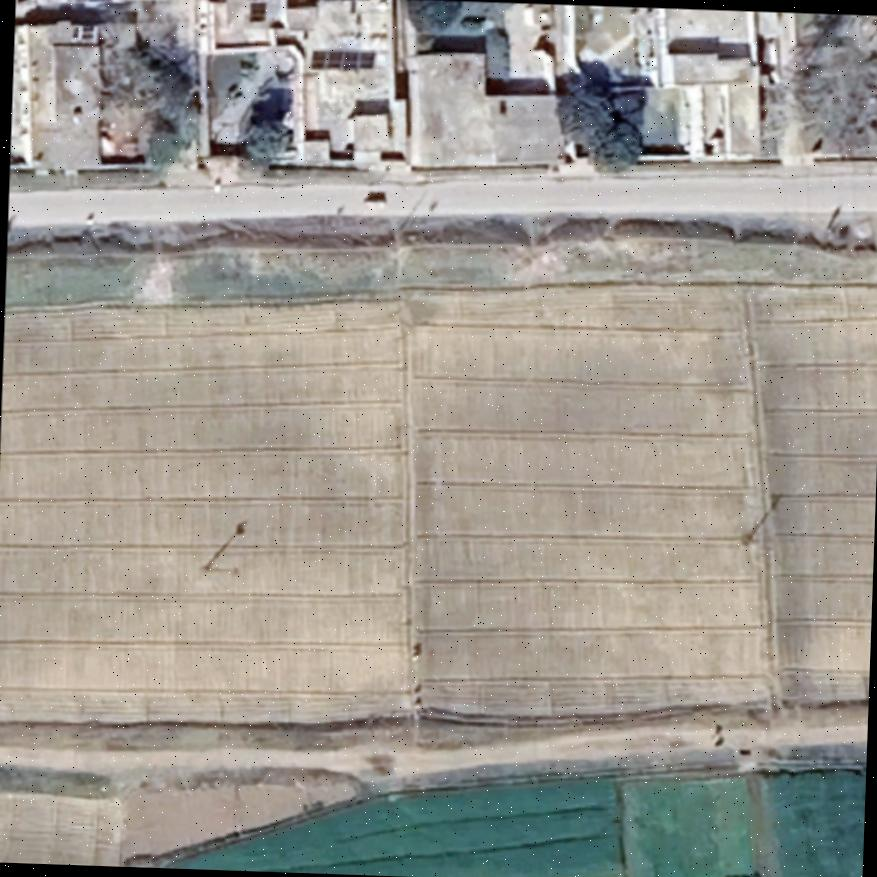Solarpanel: (305, 43, 380, 74), (80, 25, 94, 39), (71, 25, 78, 38)
